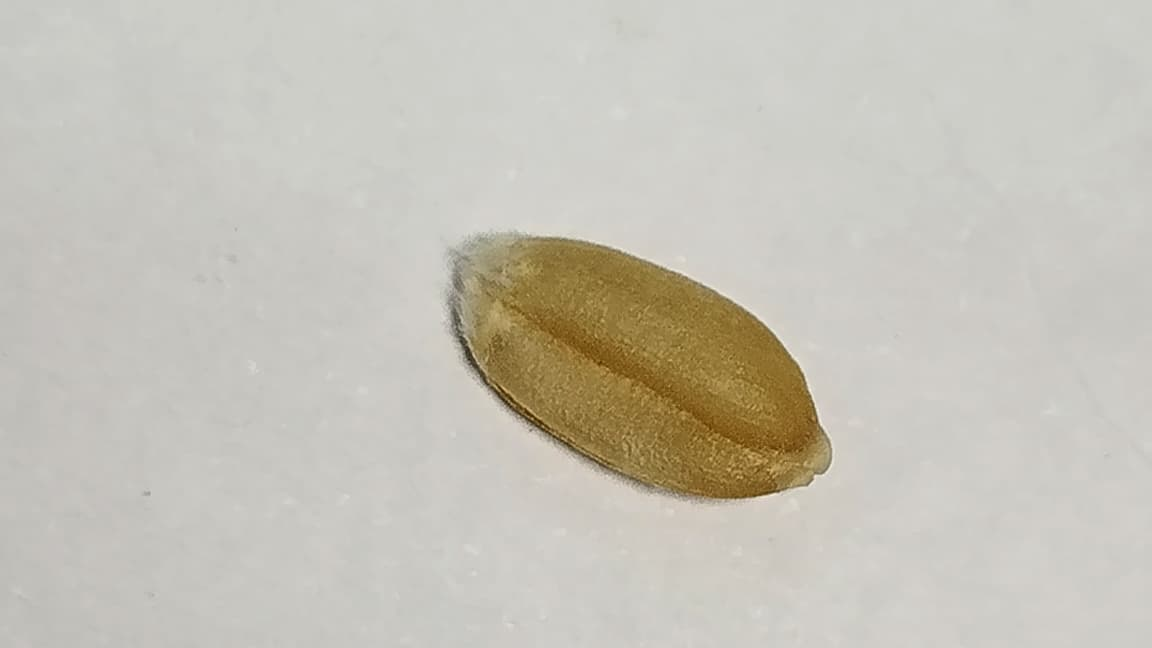healthy: (445, 230, 830, 504)
